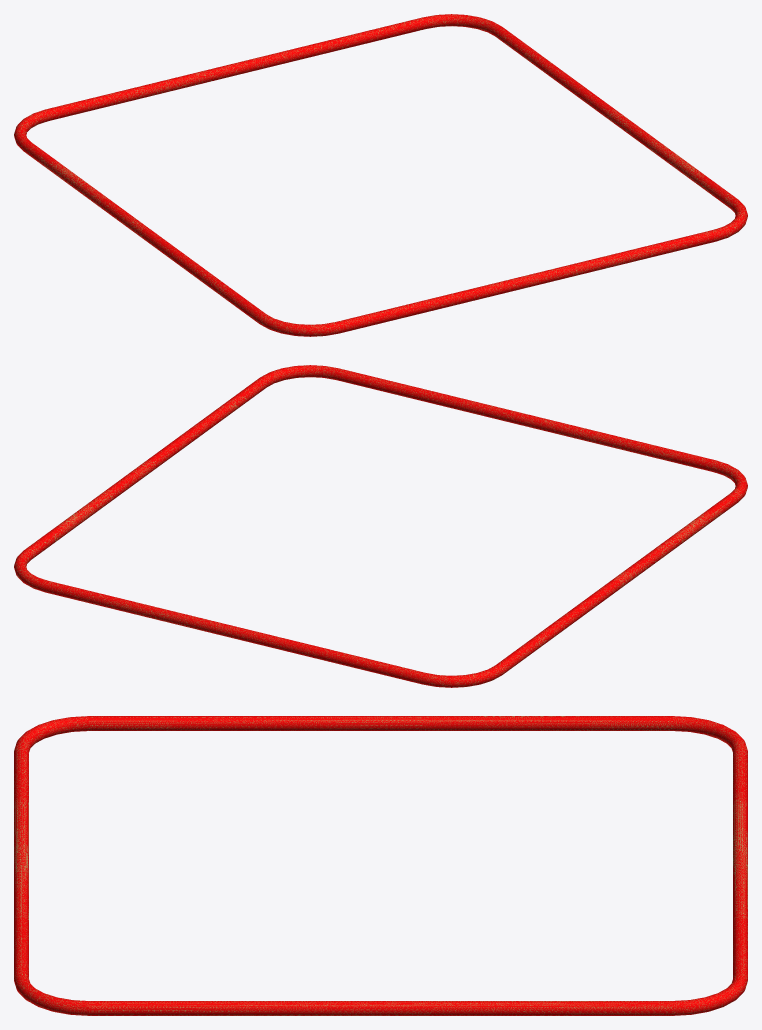
Rendered from original-51.obj.
3 renders of one model, top to bottom at view 1: azimuth 30°, elevation 25°; view 2: azimuth 150°, elevation 25°; view 3: azimuth 270°, elevation 25°, orthographic. The views are drawn at different scales.
Parts seen in each view (by area): view 1: mesh54/mesh54-geometry#mesh54-geometry; view 2: mesh54/mesh54-geometry#mesh54-geometry; view 3: mesh54/mesh54-geometry#mesh54-geometry.
Part boxes in pixels (left/top/right/bottom): mesh54/mesh54-geometry#mesh54-geometry: left=14, top=14, right=747, bottom=336; mesh54/mesh54-geometry#mesh54-geometry: left=14, top=365, right=747, bottom=687; mesh54/mesh54-geometry#mesh54-geometry: left=14, top=716, right=747, bottom=1015.
Bounding box in the file's own units: 0.3837 × 0.00834 × 0.4087.
